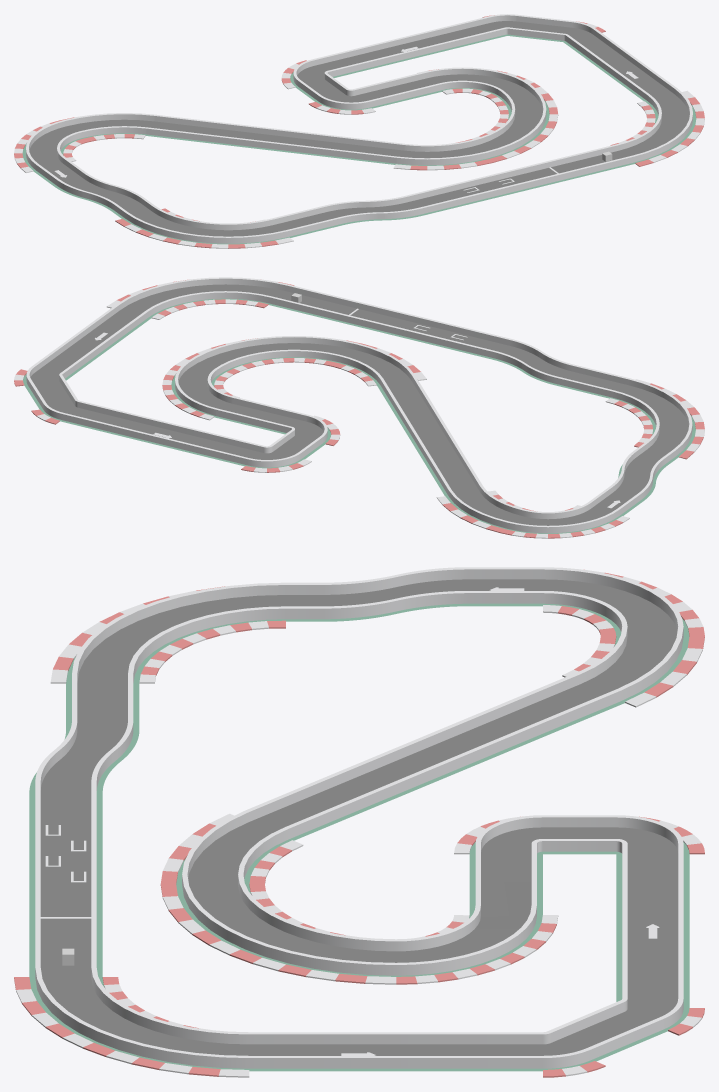
Rendered from track_obstacle.dae.
The picture shows the model from 3 angles, top to bottom: view 1: azimuth 30°, elevation 25°; view 2: azimuth 150°, elevation 25°; view 3: azimuth 270°, elevation 25°; orthographic projection. The views are drawn at different scales.
Parts seen in each view (by area): view 1: Track, Walls; view 2: Track, Walls; view 3: Track, Walls.
Boxes of the visible parts, bbox=[...] form: Track: bbox=[14, 15, 704, 248]; Walls: bbox=[26, 14, 692, 243]; Track: bbox=[14, 279, 704, 538]; Walls: bbox=[26, 277, 692, 532]; Track: bbox=[14, 569, 704, 1077]; Walls: bbox=[35, 567, 683, 1067].
Bounding box in the file's own units: 32.84 × 18.84 × 0.3605.
